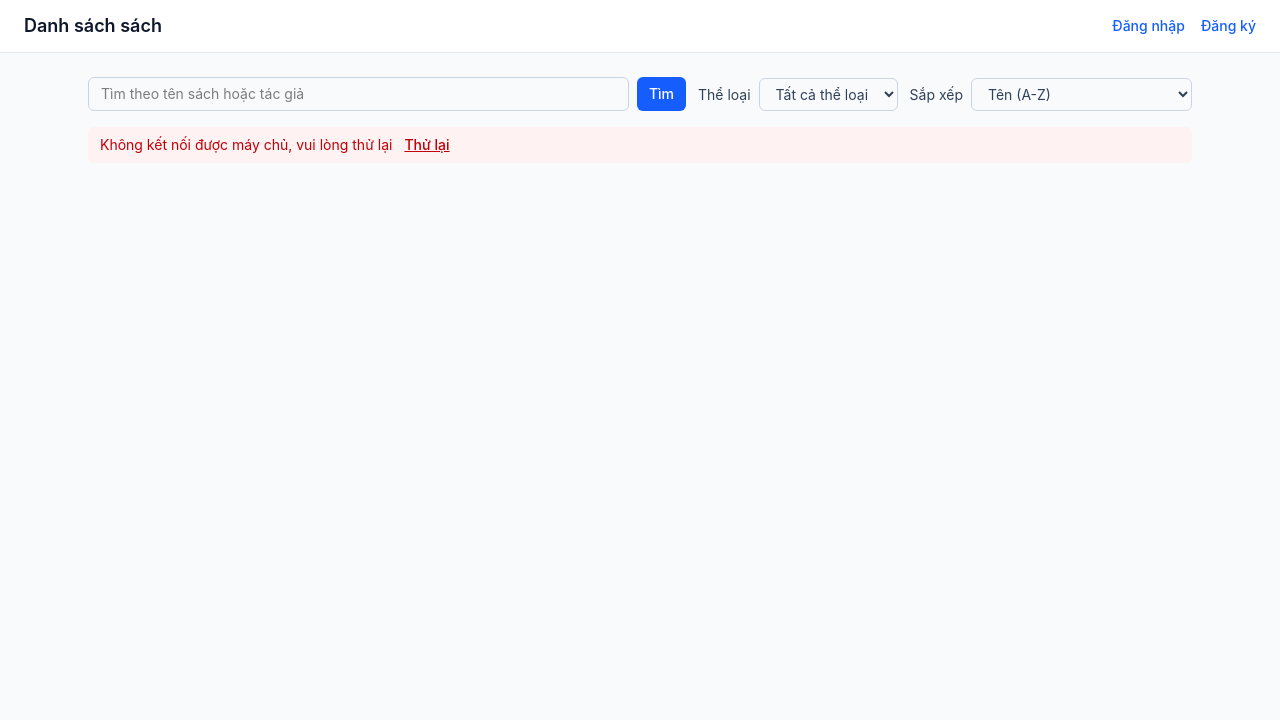
BooksPage (2.2.3) › mất kết nối → báo lỗi, nút Thử lại gọi lại API
This screenshot has width=1280, height=720.
Expected: the message shows "Không kết nối được máy chủ", [100,136,392,153]
Click the button "Thử lại" at [427, 145], box [404,135,450,155]
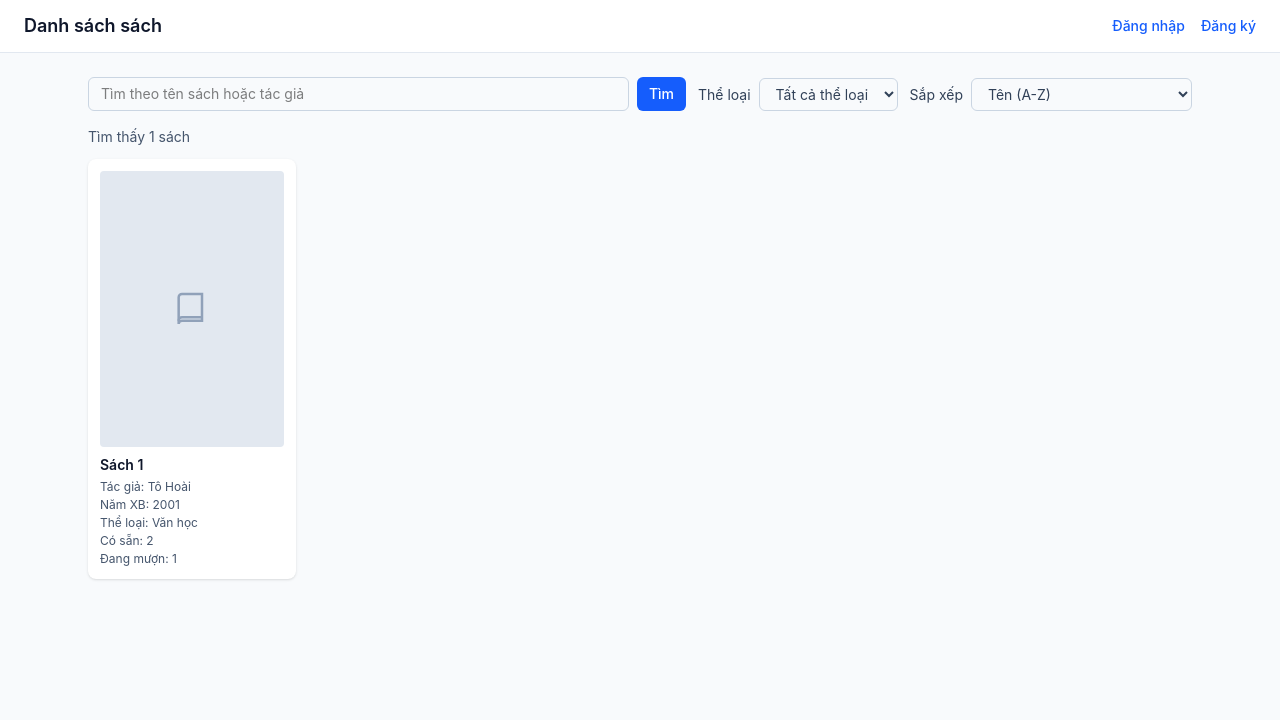
Now the element "Sách 1" is shown, box [100,171,284,567]
